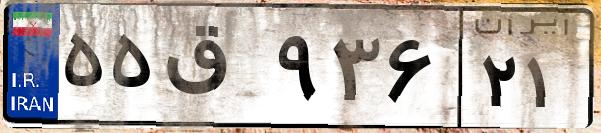1: (525, 38, 570, 115)
2: (475, 38, 525, 113)
3: (330, 28, 385, 110)
5: (57, 26, 110, 100), (110, 28, 158, 98)
6: (385, 28, 445, 110)
9: (270, 28, 330, 110)
ق: (158, 20, 270, 120)
